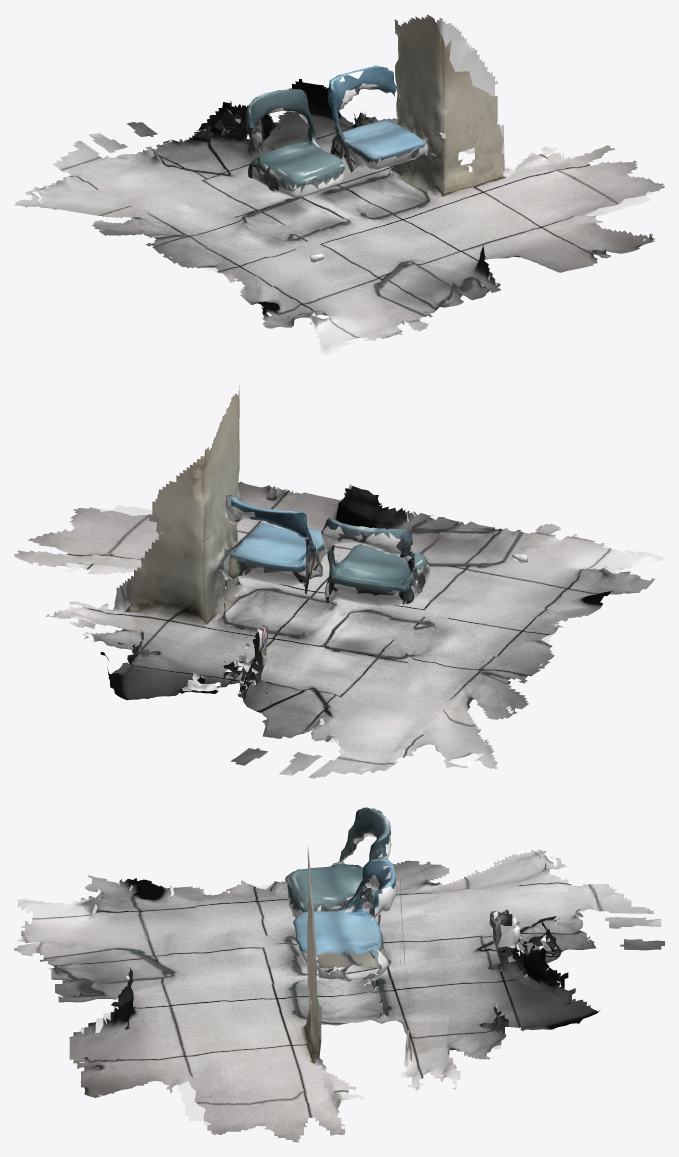
3 views of the same model, one above another, from view 1: azimuth 30°, elevation 25°; view 2: azimuth 150°, elevation 25°; view 3: azimuth 270°, elevation 25° (orthographic). The views are drawn at different scales.
Parts seen in each view (by area): view 1: texture_0, texture_1, object 1; view 2: texture_0, texture_1, object 1; view 3: texture_0, texture_1, object 1.
Boxes of the visible parts, left/top/right/bottom form: texture_0: left=25, top=22, right=664, bottom=336; texture_1: left=14, top=14, right=654, bottom=355; object 1: left=26, top=18, right=655, bottom=349; texture_0: left=14, top=437, right=654, bottom=778; texture_1: left=46, top=393, right=664, bottom=774; object 1: left=64, top=385, right=652, bottom=765; texture_0: left=14, top=807, right=664, bottom=1142; texture_1: left=17, top=811, right=655, bottom=1107; object 1: left=59, top=833, right=590, bottom=1125.
Bounding box in the file's own units: 3.66 × 1.26 × 3.5.
Materials: 3 (2 with a texture image).
